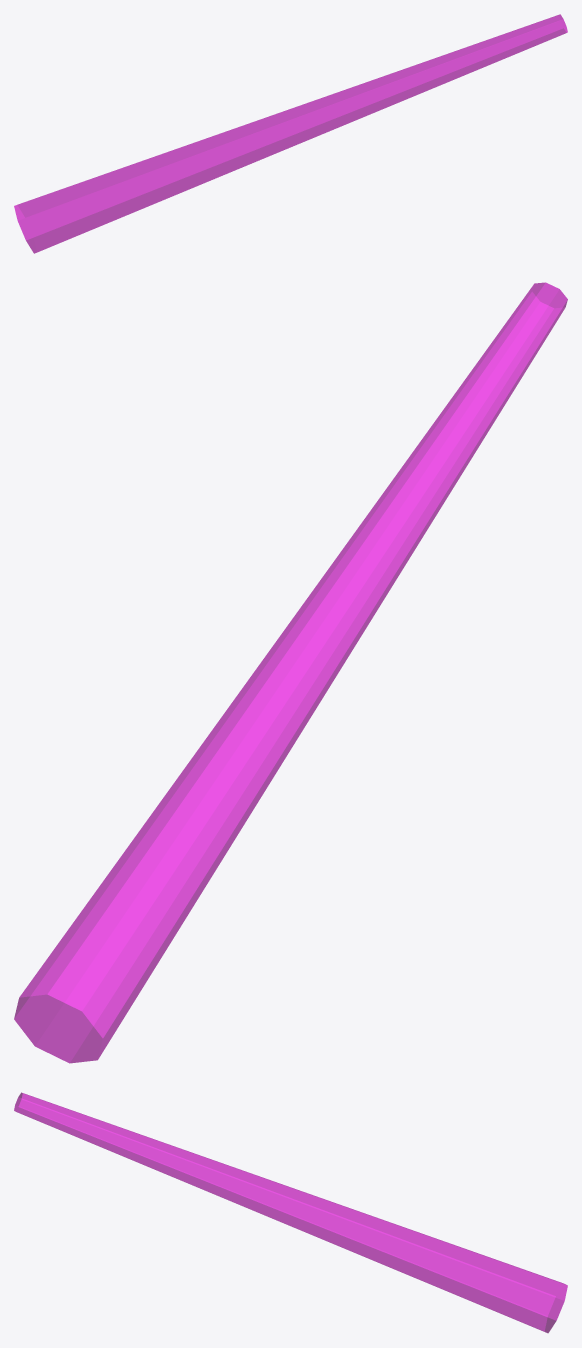
Rendered from SM_Veh_Ship_L_Bowsprit_02_Collision.fbx.
3 renders of one model, top to bottom at view 1: azimuth 90°, elevation 25°; view 2: azimuth 150°, elevation 25°; view 3: azimuth 270°, elevation 25°, orthographic. The views are drawn at different scales.
Parts seen in each view (by area): view 1: SM_Veh_Ship_L_Bowsprit_02_Collision; view 2: SM_Veh_Ship_L_Bowsprit_02_Collision; view 3: SM_Veh_Ship_L_Bowsprit_02_Collision.
Part boxes in pixels (left/top/right/bottom): SM_Veh_Ship_L_Bowsprit_02_Collision: left=14, top=14, right=567, bottom=253; SM_Veh_Ship_L_Bowsprit_02_Collision: left=14, top=282, right=567, bottom=1063; SM_Veh_Ship_L_Bowsprit_02_Collision: left=14, top=1092, right=567, bottom=1333.
Size of the model in its own units: 150 by 702 by 1481.
